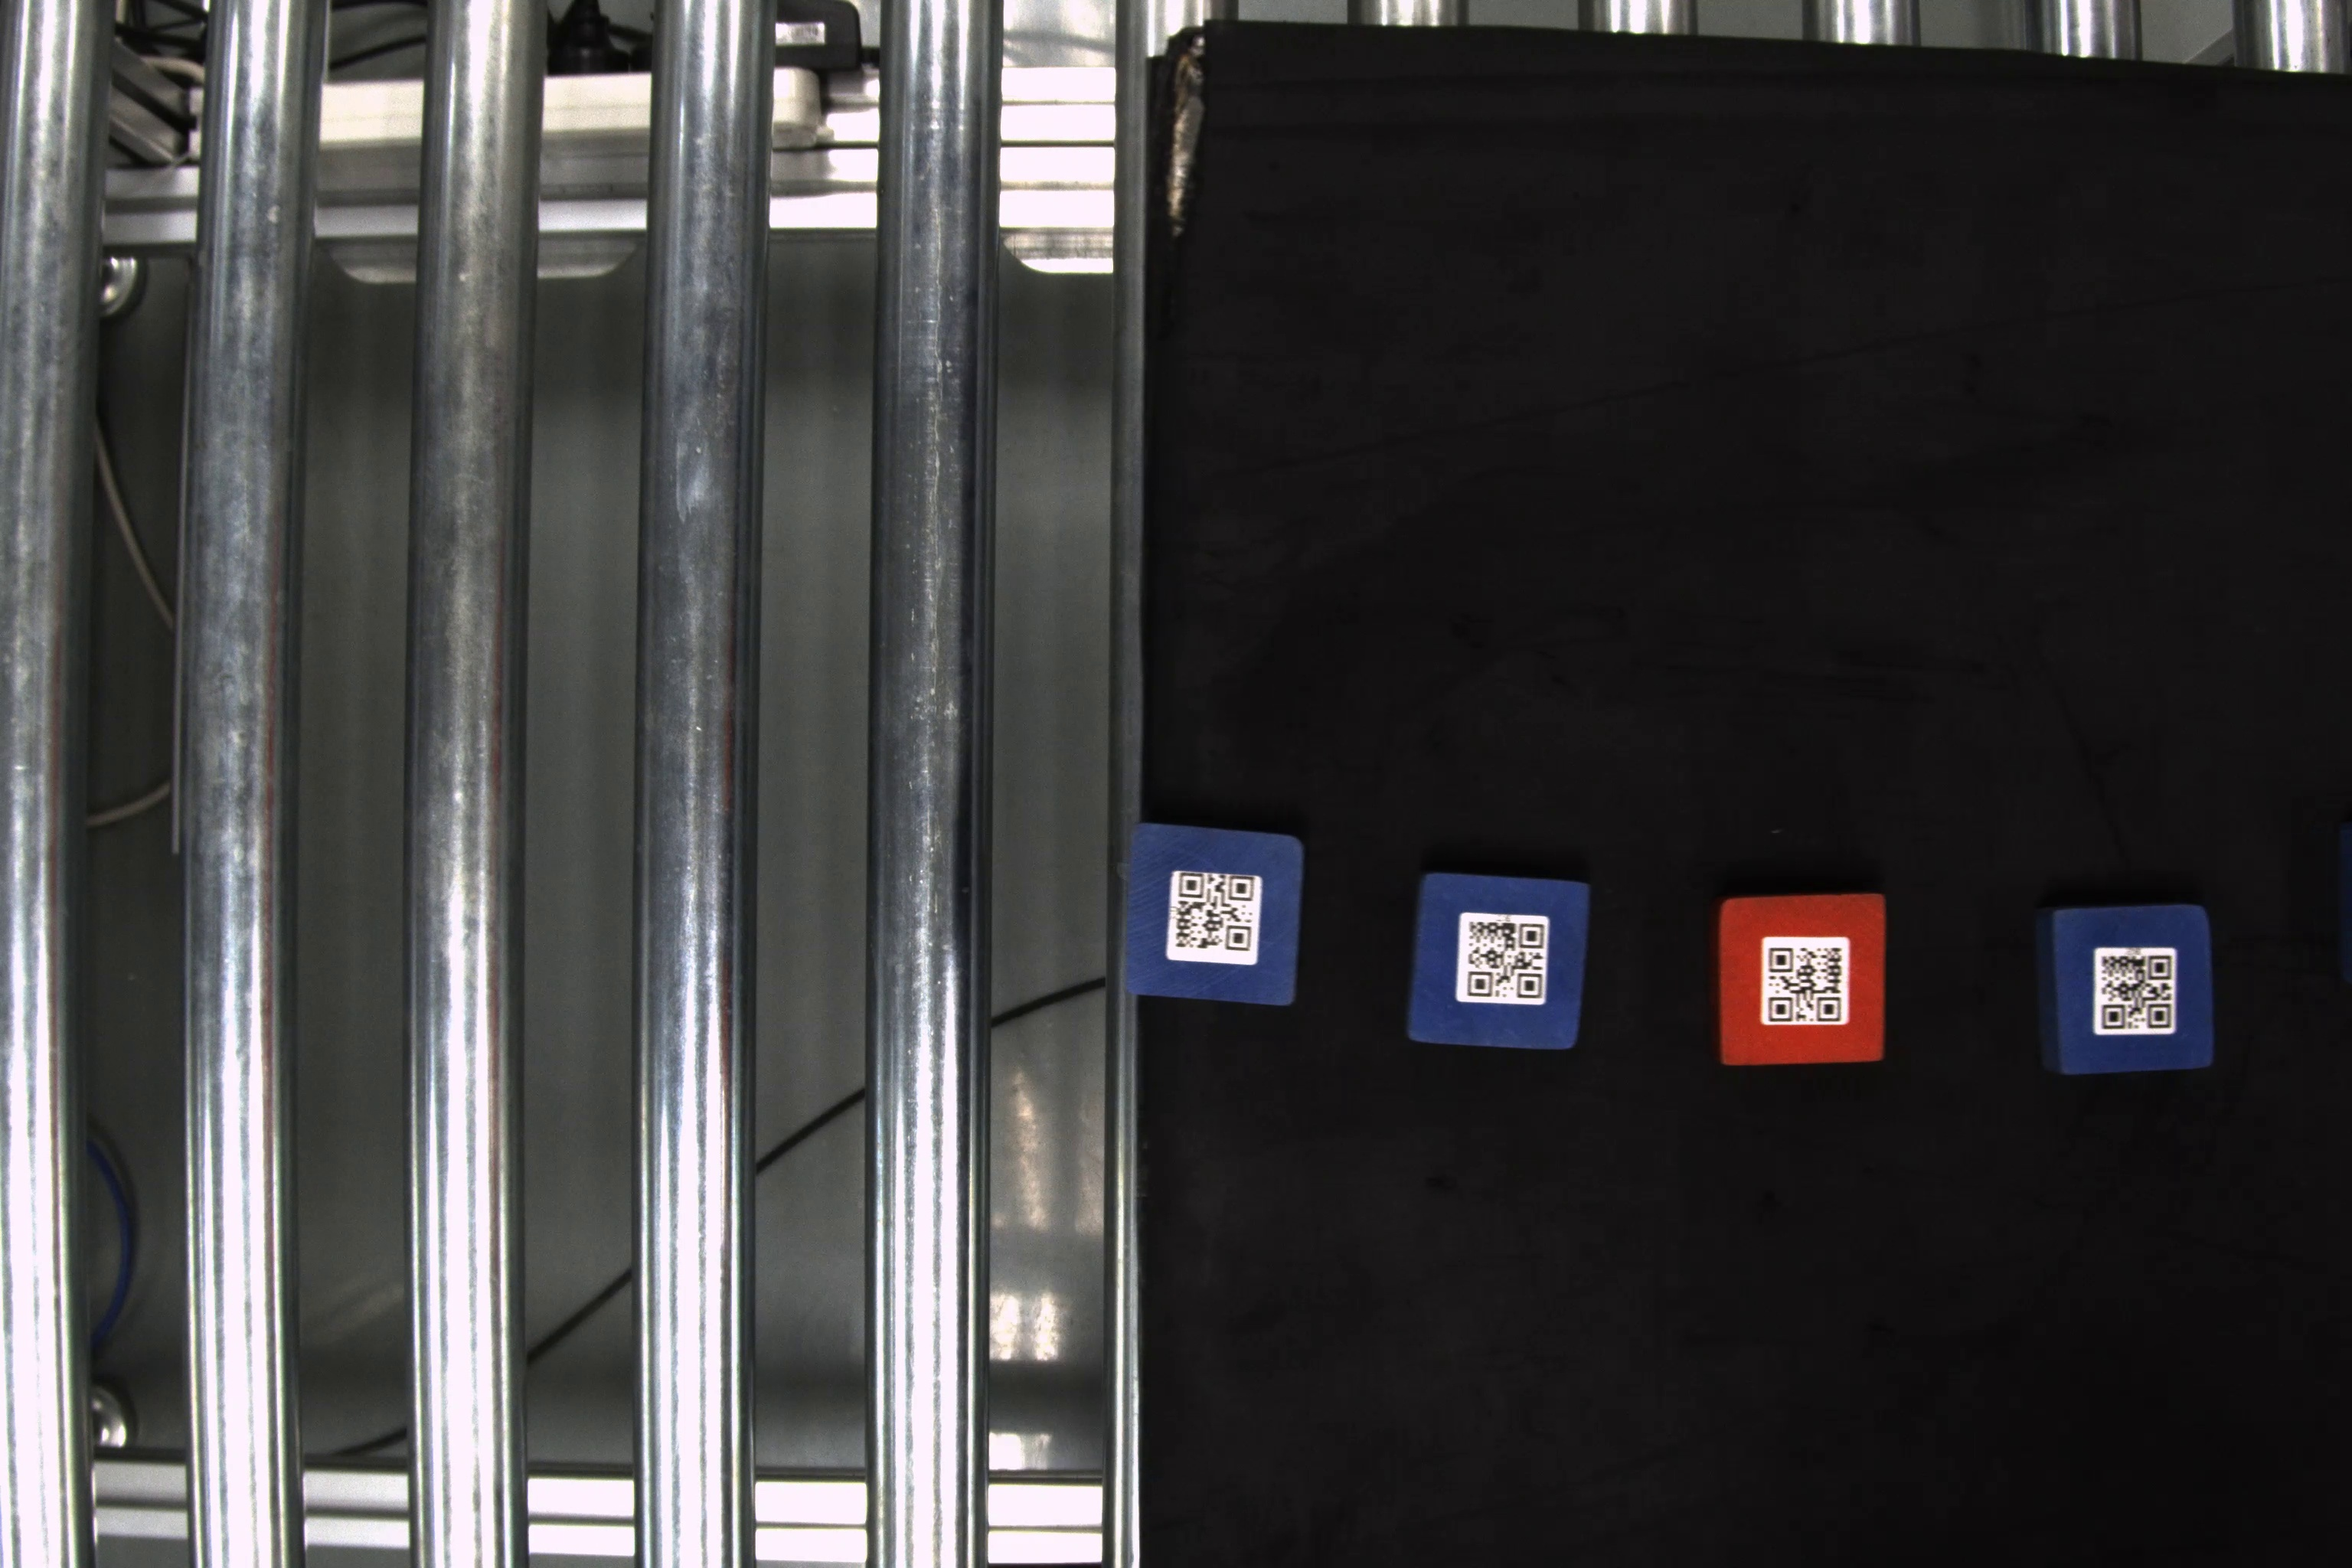wood: (2025, 885, 2222, 1081), (1118, 819, 1309, 1006), (1412, 870, 1596, 1050), (1704, 896, 1890, 1074)
